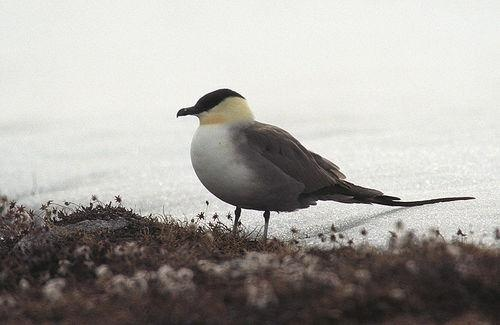bird: (171, 90, 468, 245)
